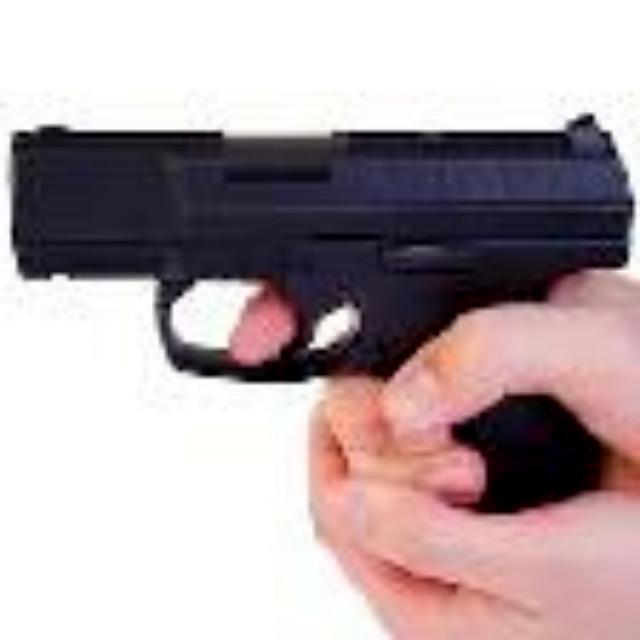pistol: (17, 114, 640, 640), (0, 101, 640, 581)
